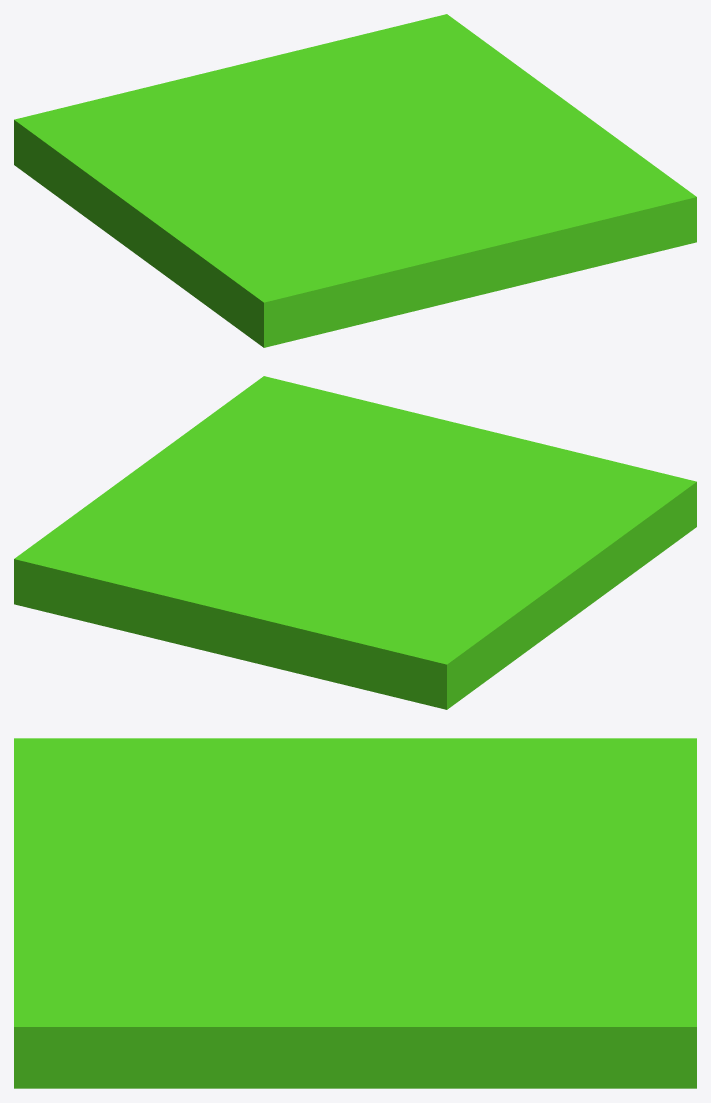
The model's file is launch_pad.dae.
3 renders of one model, top to bottom at view 1: azimuth 30°, elevation 25°; view 2: azimuth 150°, elevation 25°; view 3: azimuth 270°, elevation 25°, orthographic. The views are drawn at different scales.
Parts seen in each view (by area): view 1: Cube; view 2: Cube; view 3: Cube.
Boxes of the visible parts, x1,y1,x2,y2 form: Cube: [14, 14, 696, 347]; Cube: [14, 376, 696, 709]; Cube: [14, 738, 696, 1088].
Bounding box in the file's own units: 10 × 10 × 1.
